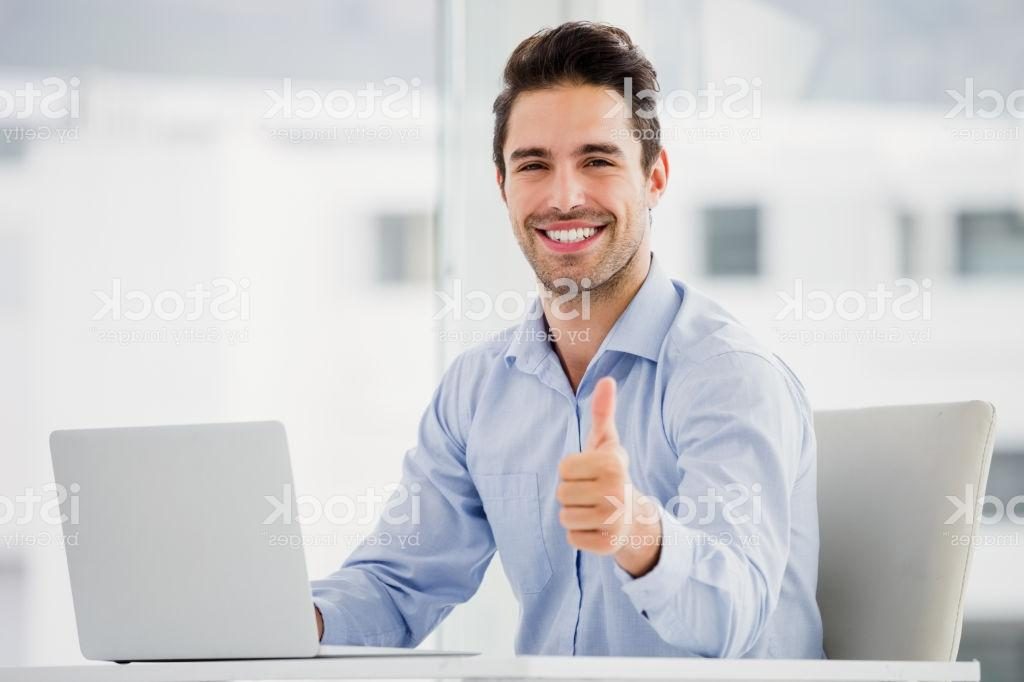thumbsup: (554, 372, 632, 555)
